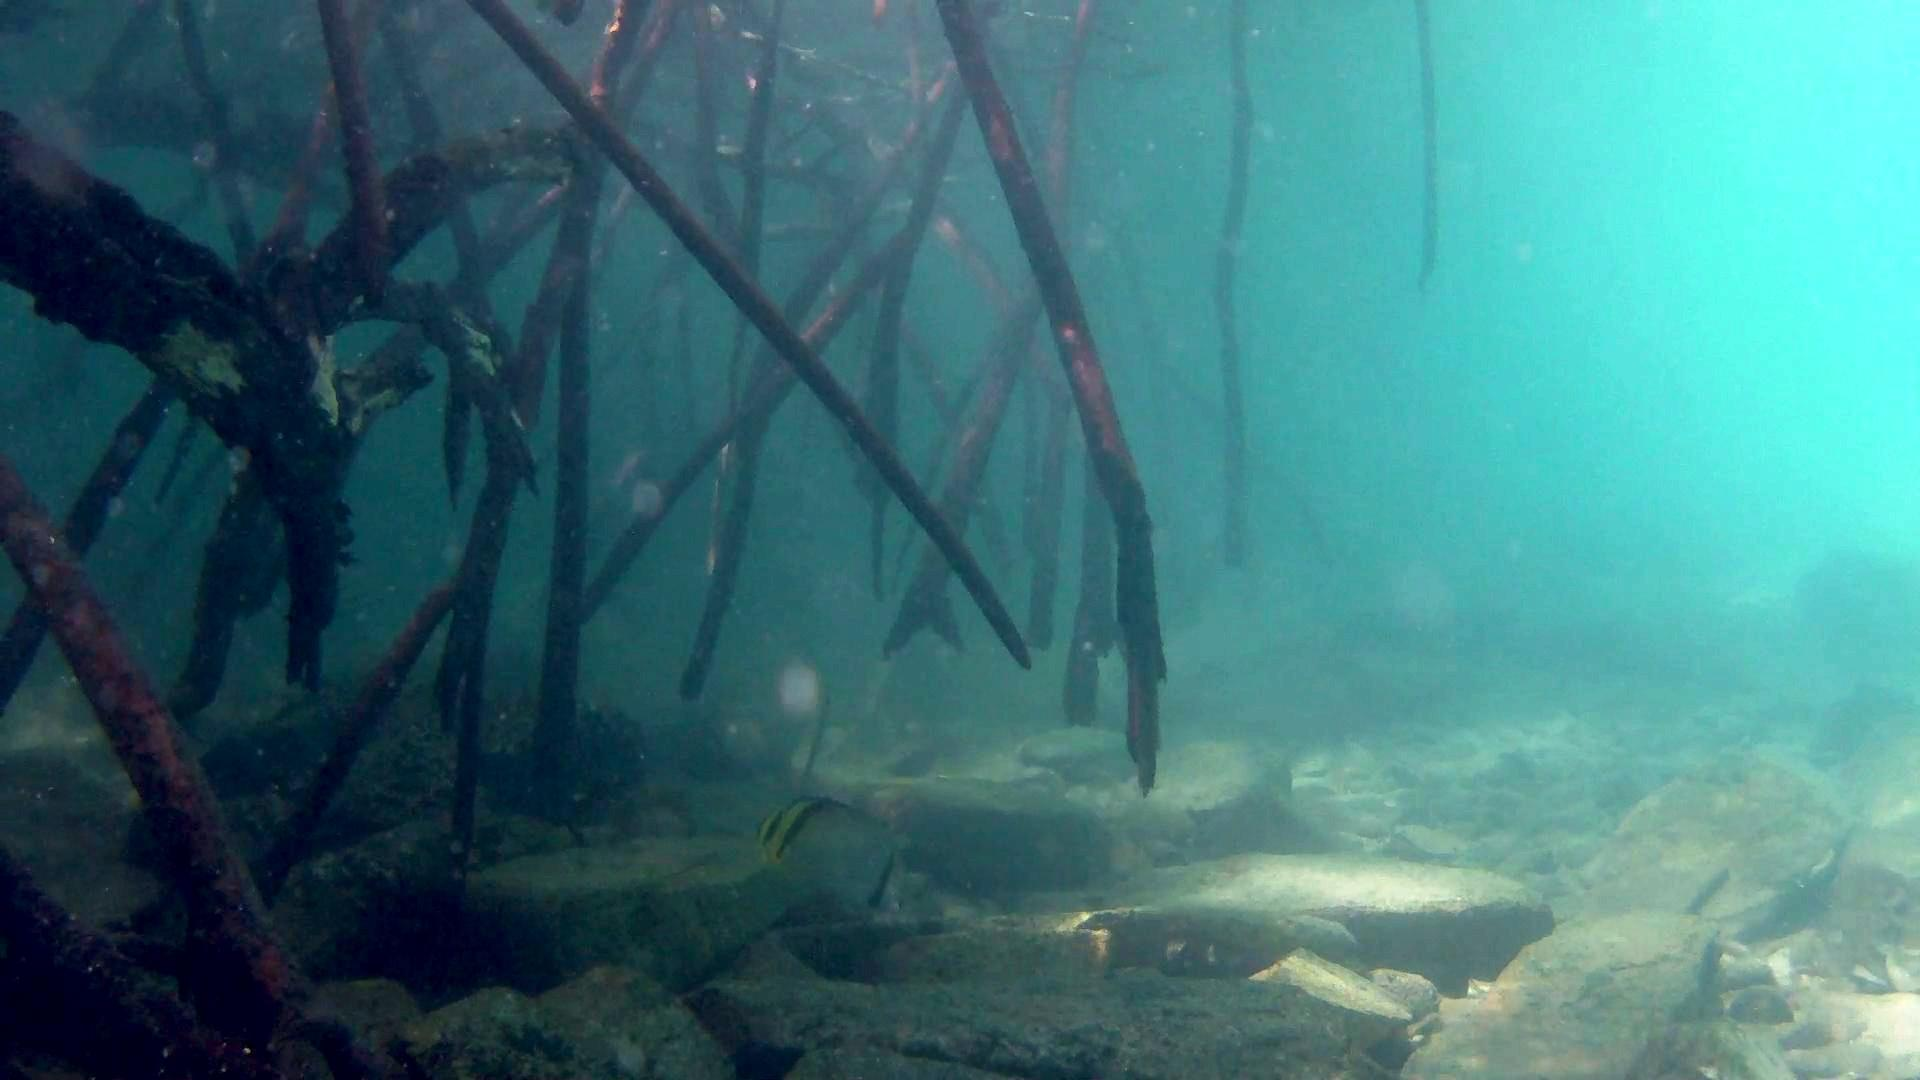chaetodon vagabundus: (752, 791, 912, 923)
